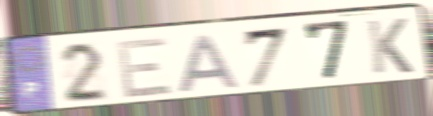2: (58, 41, 110, 105)
7: (238, 27, 292, 89), (301, 19, 351, 85)
A: (176, 32, 243, 95)
E: (114, 34, 176, 101)
K: (364, 16, 416, 76)
